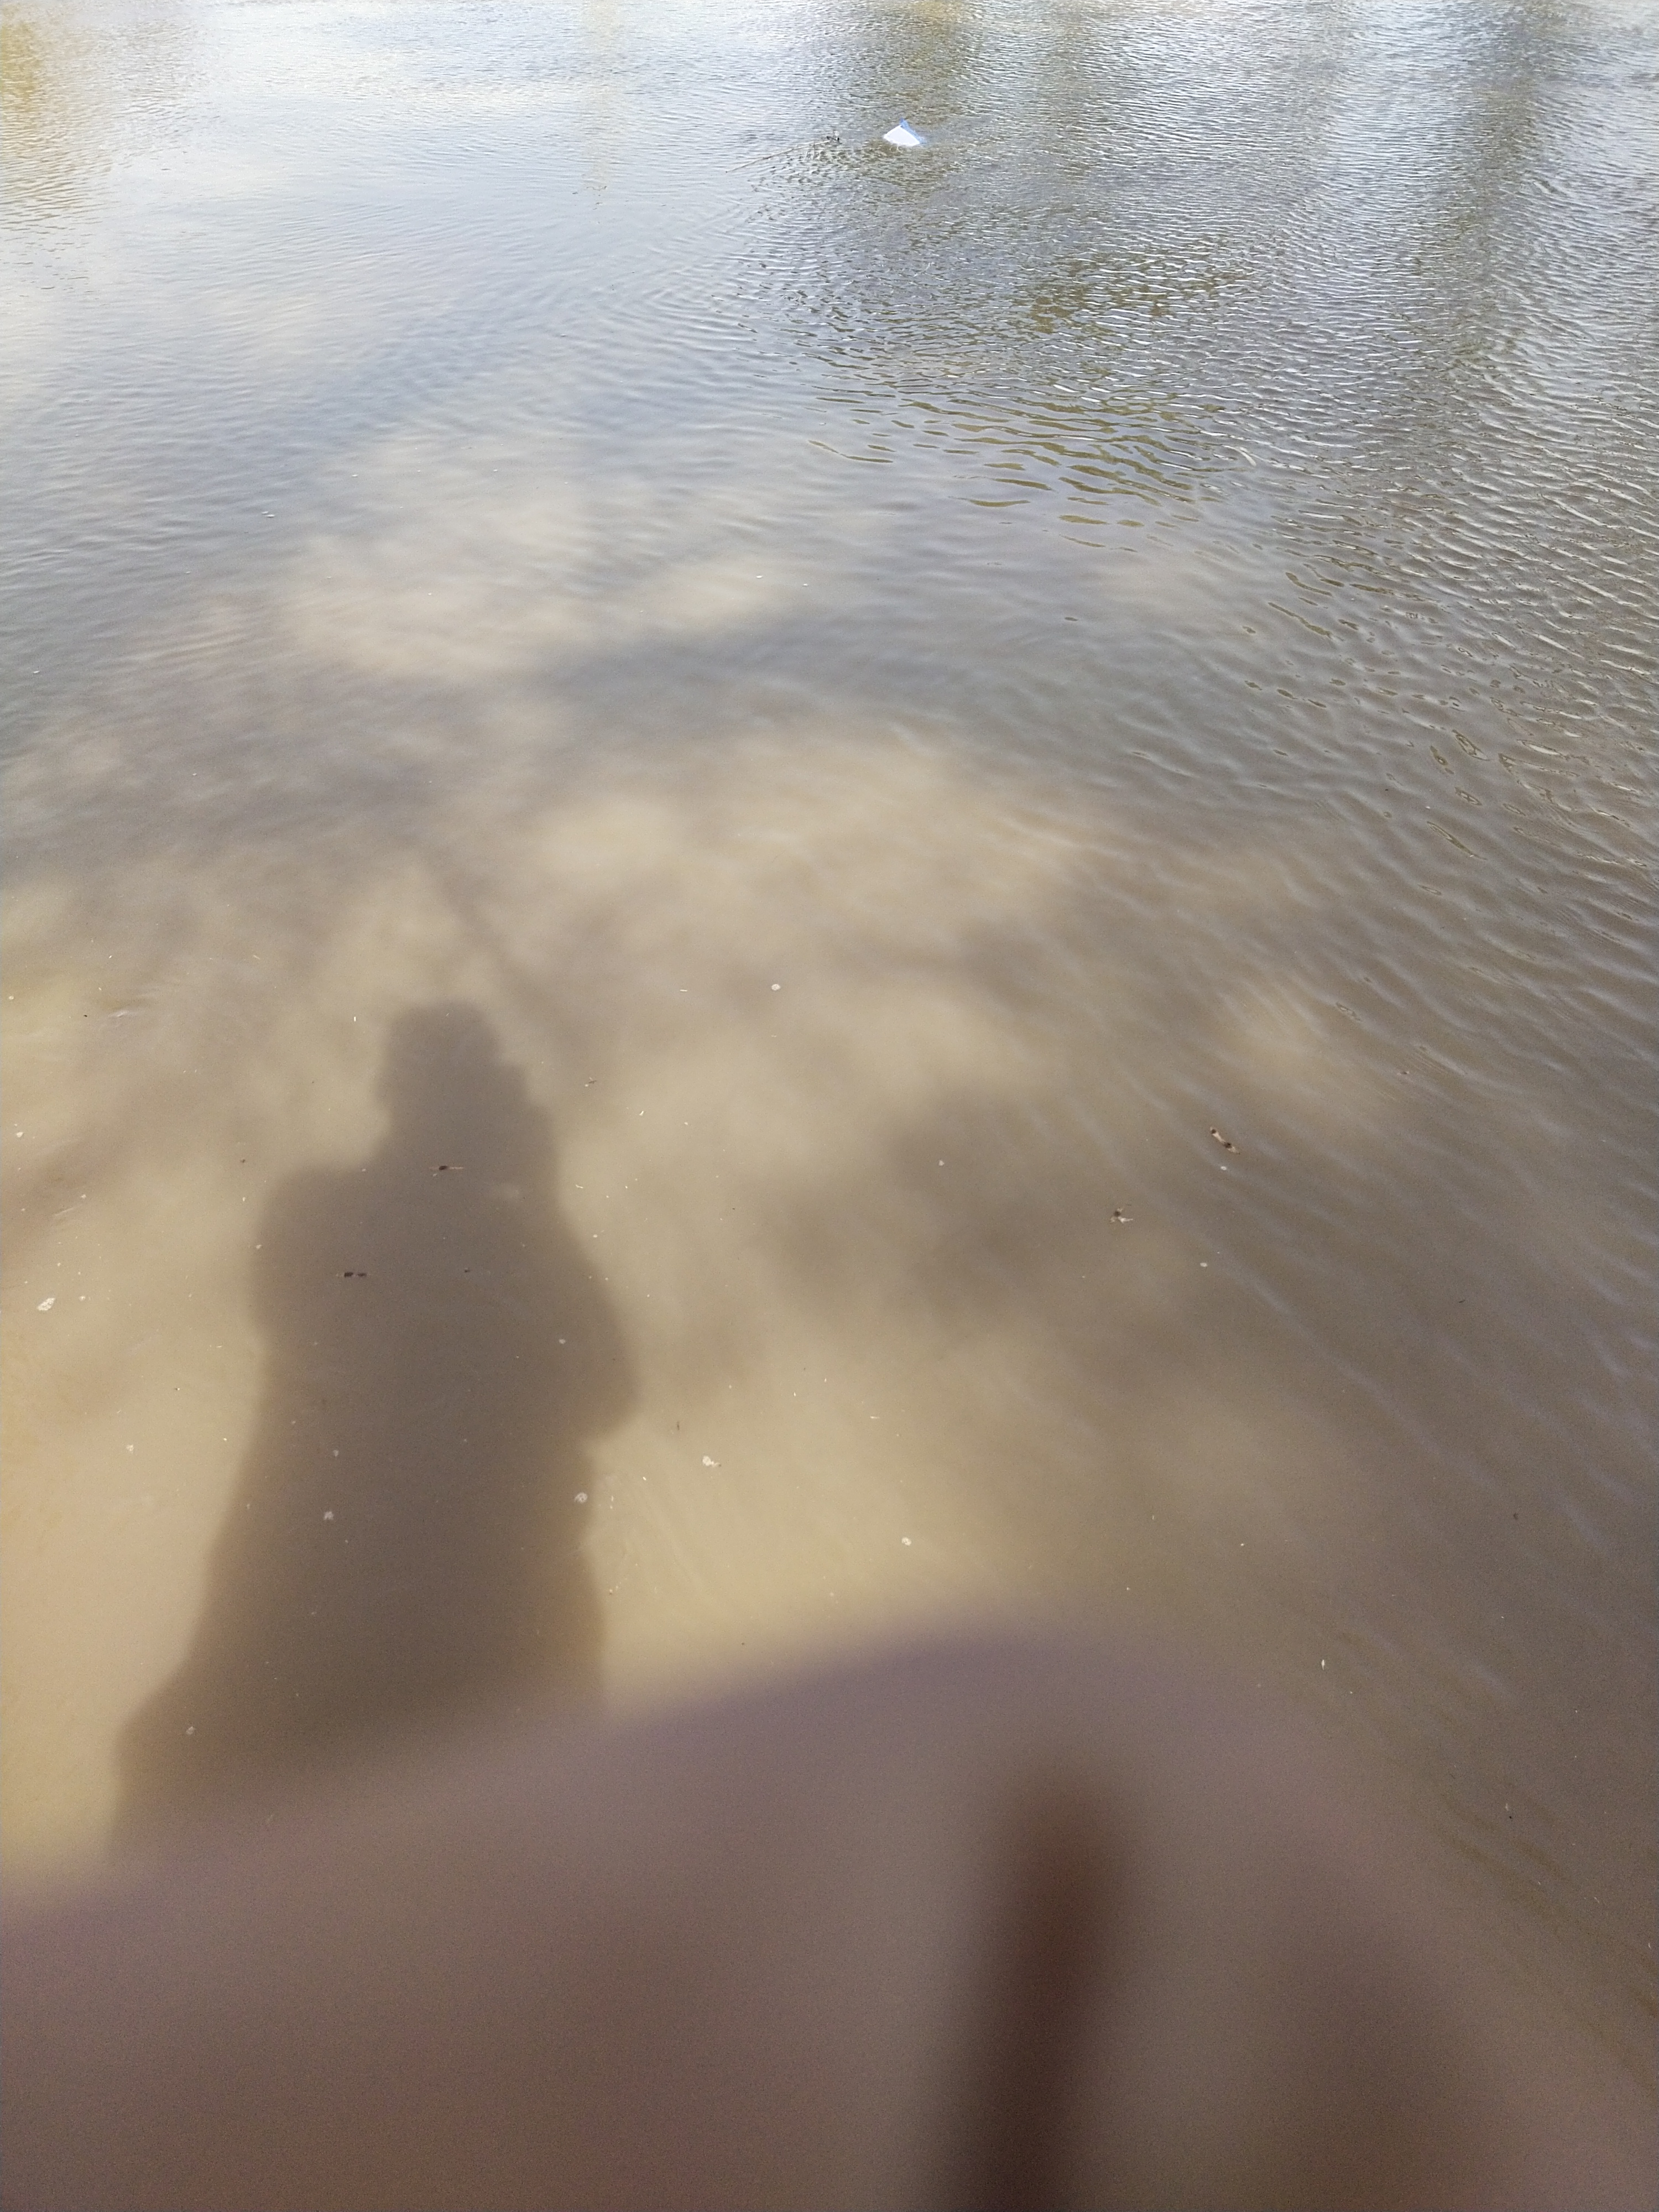Plastic Bottle: (884, 125, 917, 146), (901, 120, 924, 141)
